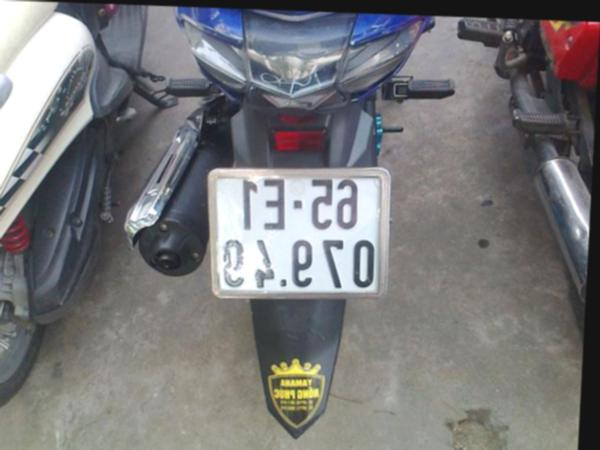License_Plate: (208, 161, 389, 304)
